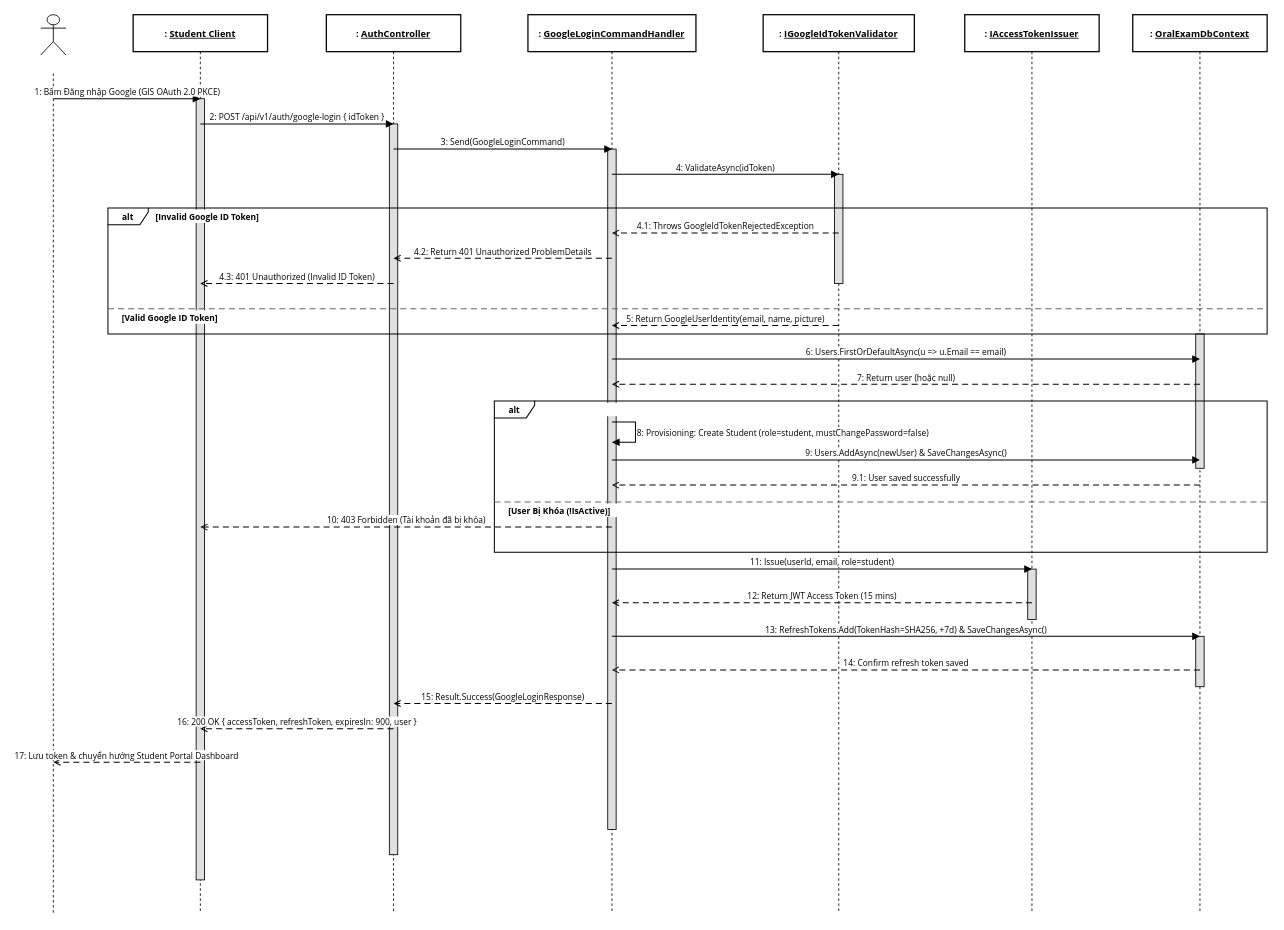
Some shapes in this 1284 by 930 pixel diagram are drawn without their labels. Each missing label, with the box of its shape:
: Sinh viên: (40, 14, 66, 55)
[User Chưa Tồn Tại (Auto-Provisioning)]: (540, 402, 774, 416)
